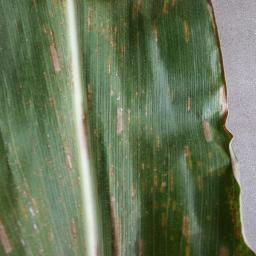Gray_Leaf_Spot: (36, 23, 65, 81), (137, 156, 177, 193), (101, 0, 124, 64), (77, 79, 98, 144), (215, 31, 232, 104), (17, 178, 41, 228), (148, 196, 187, 224), (107, 180, 120, 256), (63, 217, 87, 254), (108, 103, 132, 137), (198, 149, 230, 174), (31, 0, 66, 21), (177, 140, 199, 173), (232, 178, 246, 228), (179, 215, 196, 256), (124, 177, 141, 217), (63, 135, 79, 174), (140, 106, 155, 146), (197, 121, 217, 148), (220, 185, 237, 216), (0, 224, 18, 253), (194, 172, 212, 199), (201, 0, 218, 28), (235, 234, 256, 256), (180, 15, 193, 50), (14, 76, 27, 107), (159, 0, 184, 16), (39, 95, 60, 114), (221, 107, 232, 142), (104, 61, 115, 95), (85, 8, 98, 36), (130, 1, 145, 21), (44, 154, 57, 176), (181, 88, 195, 108), (137, 233, 148, 256), (203, 206, 217, 224), (46, 220, 54, 251), (129, 87, 147, 100), (109, 149, 116, 178), (159, 235, 182, 243), (153, 18, 160, 40), (154, 136, 168, 145), (218, 241, 226, 256), (18, 237, 29, 246), (221, 231, 230, 240), (115, 94, 123, 104), (41, 136, 55, 140), (37, 245, 44, 253), (220, 30, 221, 36)
